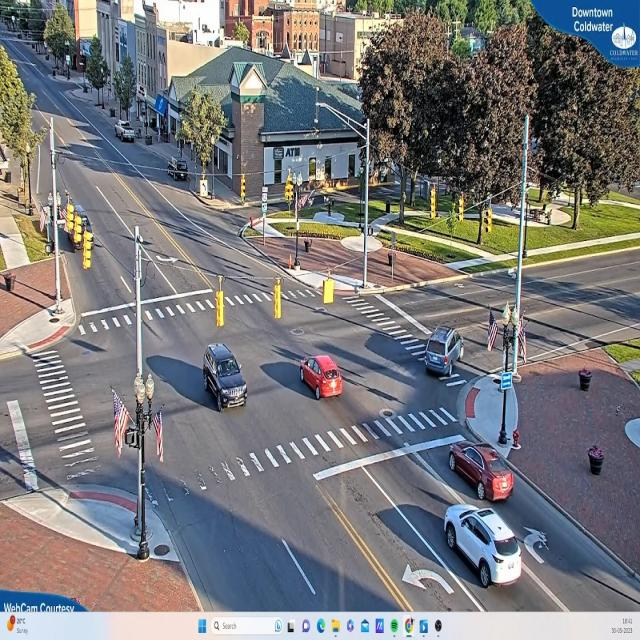car: (446, 503, 526, 588), (450, 443, 514, 503), (202, 345, 248, 409), (298, 357, 342, 401), (423, 329, 462, 376), (116, 123, 136, 143)
